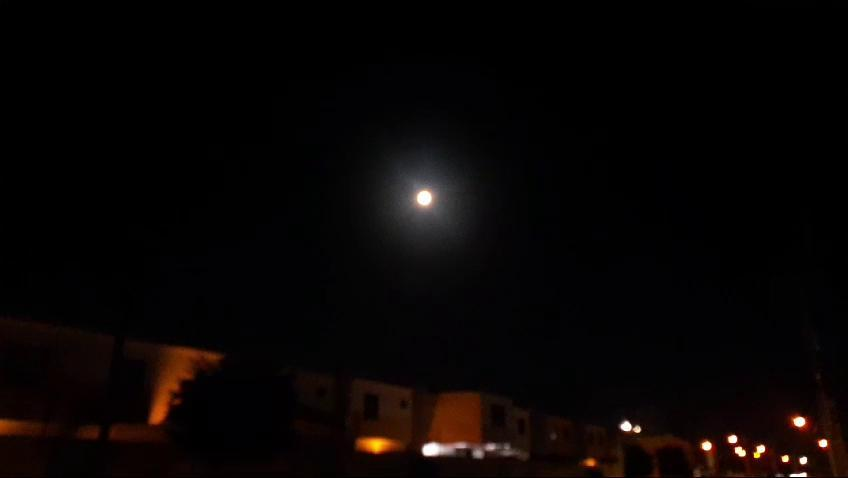moon: (413, 198, 435, 222)
